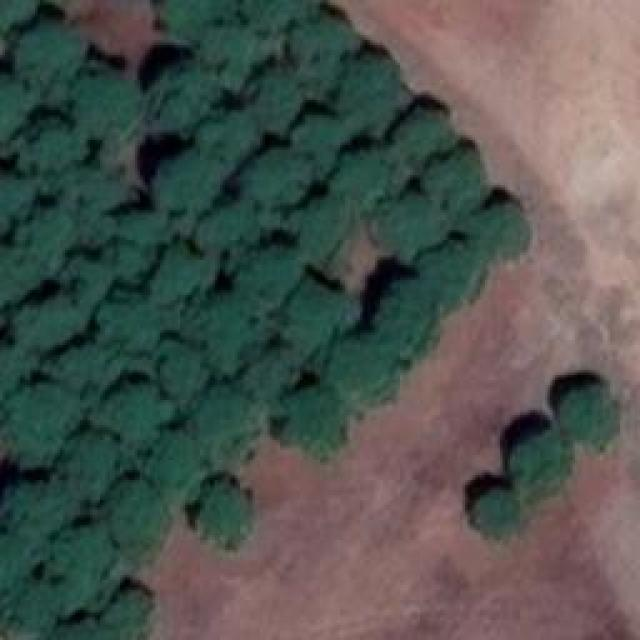Tree: (10, 23, 78, 96), (17, 115, 85, 185), (278, 385, 348, 453), (0, 385, 65, 453), (340, 52, 393, 130), (112, 483, 170, 553), (65, 170, 123, 240), (200, 295, 258, 365), (378, 285, 433, 358), (75, 73, 138, 136), (558, 385, 621, 448), (45, 532, 103, 600), (148, 64, 211, 125), (3, 483, 66, 543), (158, 155, 218, 218), (288, 20, 343, 88), (150, 245, 205, 313), (285, 195, 343, 258), (193, 483, 248, 548), (377, 195, 435, 255), (285, 280, 338, 345), (335, 145, 393, 203), (478, 203, 531, 266), (155, 337, 203, 405), (245, 68, 295, 133), (245, 148, 303, 203), (330, 338, 383, 398), (200, 390, 248, 455), (148, 432, 201, 490), (513, 430, 566, 488), (203, 25, 258, 80), (68, 438, 118, 498), (430, 150, 480, 210), (115, 212, 158, 280), (18, 298, 73, 351), (103, 383, 156, 438), (203, 203, 256, 258), (3, 582, 53, 640), (427, 238, 475, 298), (58, 343, 110, 398), (105, 585, 155, 640), (398, 108, 453, 158), (102, 298, 150, 351), (247, 345, 295, 398), (242, 0, 319, 32), (205, 112, 253, 160), (160, 0, 220, 38), (243, 250, 288, 298), (65, 257, 108, 305), (300, 113, 338, 166), (25, 215, 65, 265), (0, 75, 28, 145), (0, 167, 32, 227), (475, 490, 513, 533), (0, 248, 25, 308), (0, 0, 30, 32)
